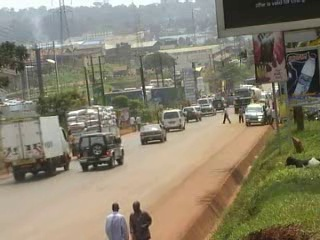Car: (76, 128, 124, 172), (139, 120, 168, 146), (180, 104, 202, 127), (198, 102, 217, 119), (210, 96, 227, 111)
